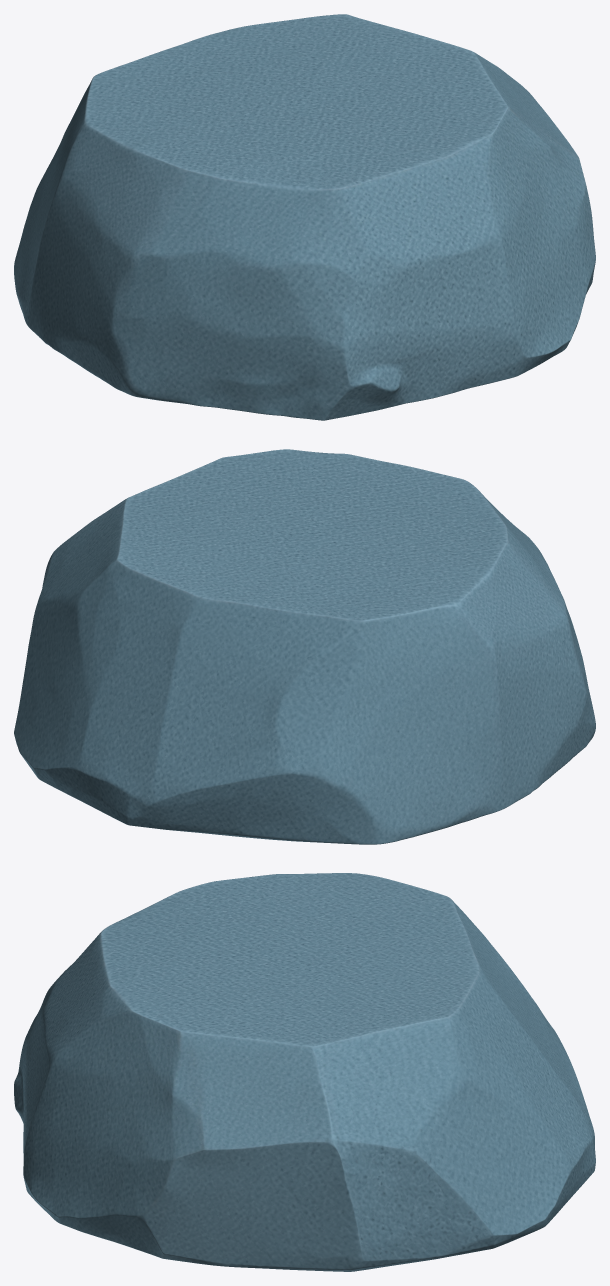
Rendered from Meshy_AI_stylized_stone_prop_20261124_image-to-3d-texture.fbx.
The picture shows the model from 3 angles, top to bottom: view 1: azimuth 30°, elevation 25°; view 2: azimuth 150°, elevation 25°; view 3: azimuth 270°, elevation 25°; orthographic projection. The views are drawn at different scales.
Parts seen in each view (by area): view 1: Mesh_0; view 2: Mesh_0; view 3: Mesh_0.
Part boxes in pixels (x1=…): Mesh_0: x1=14, y1=14, x2=595, y2=420; Mesh_0: x1=14, y1=449, x2=595, y2=844; Mesh_0: x1=14, y1=873, x2=595, y2=1271.
Size of the model in its own units: 184 by 70.55 by 190.
1 material, 1 textured.
